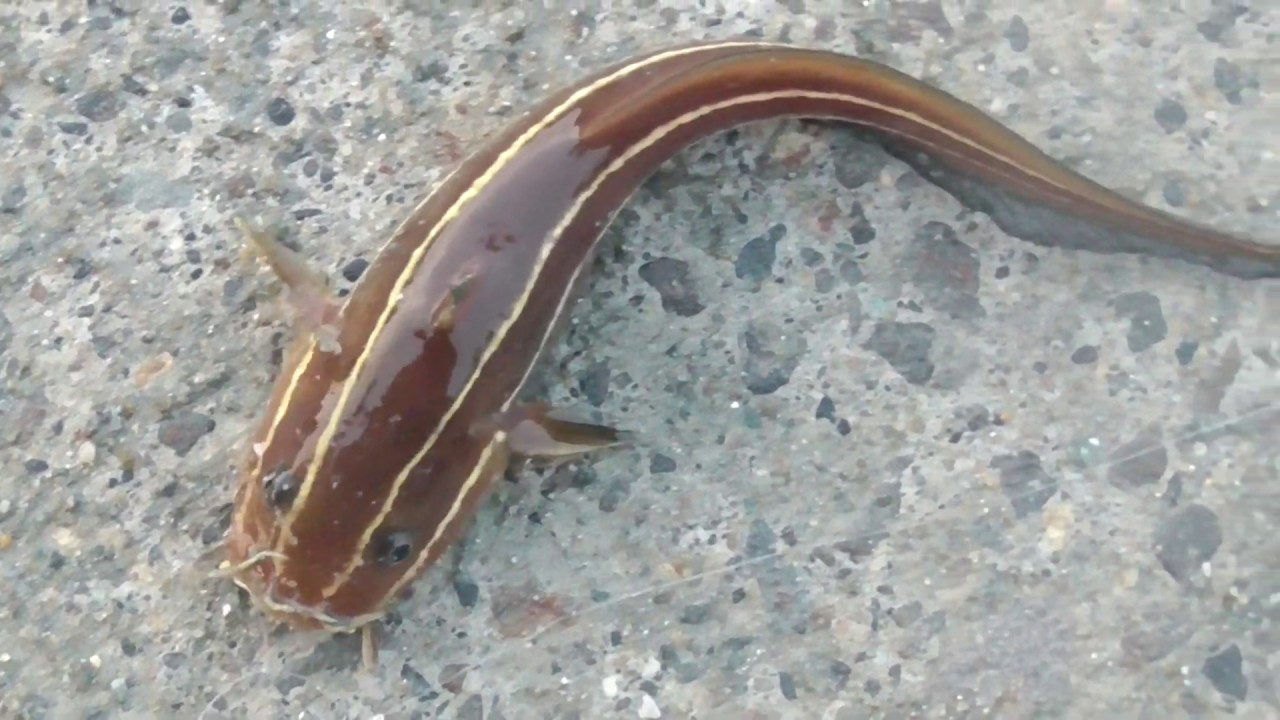gonzui: (187, 34, 1280, 655)
